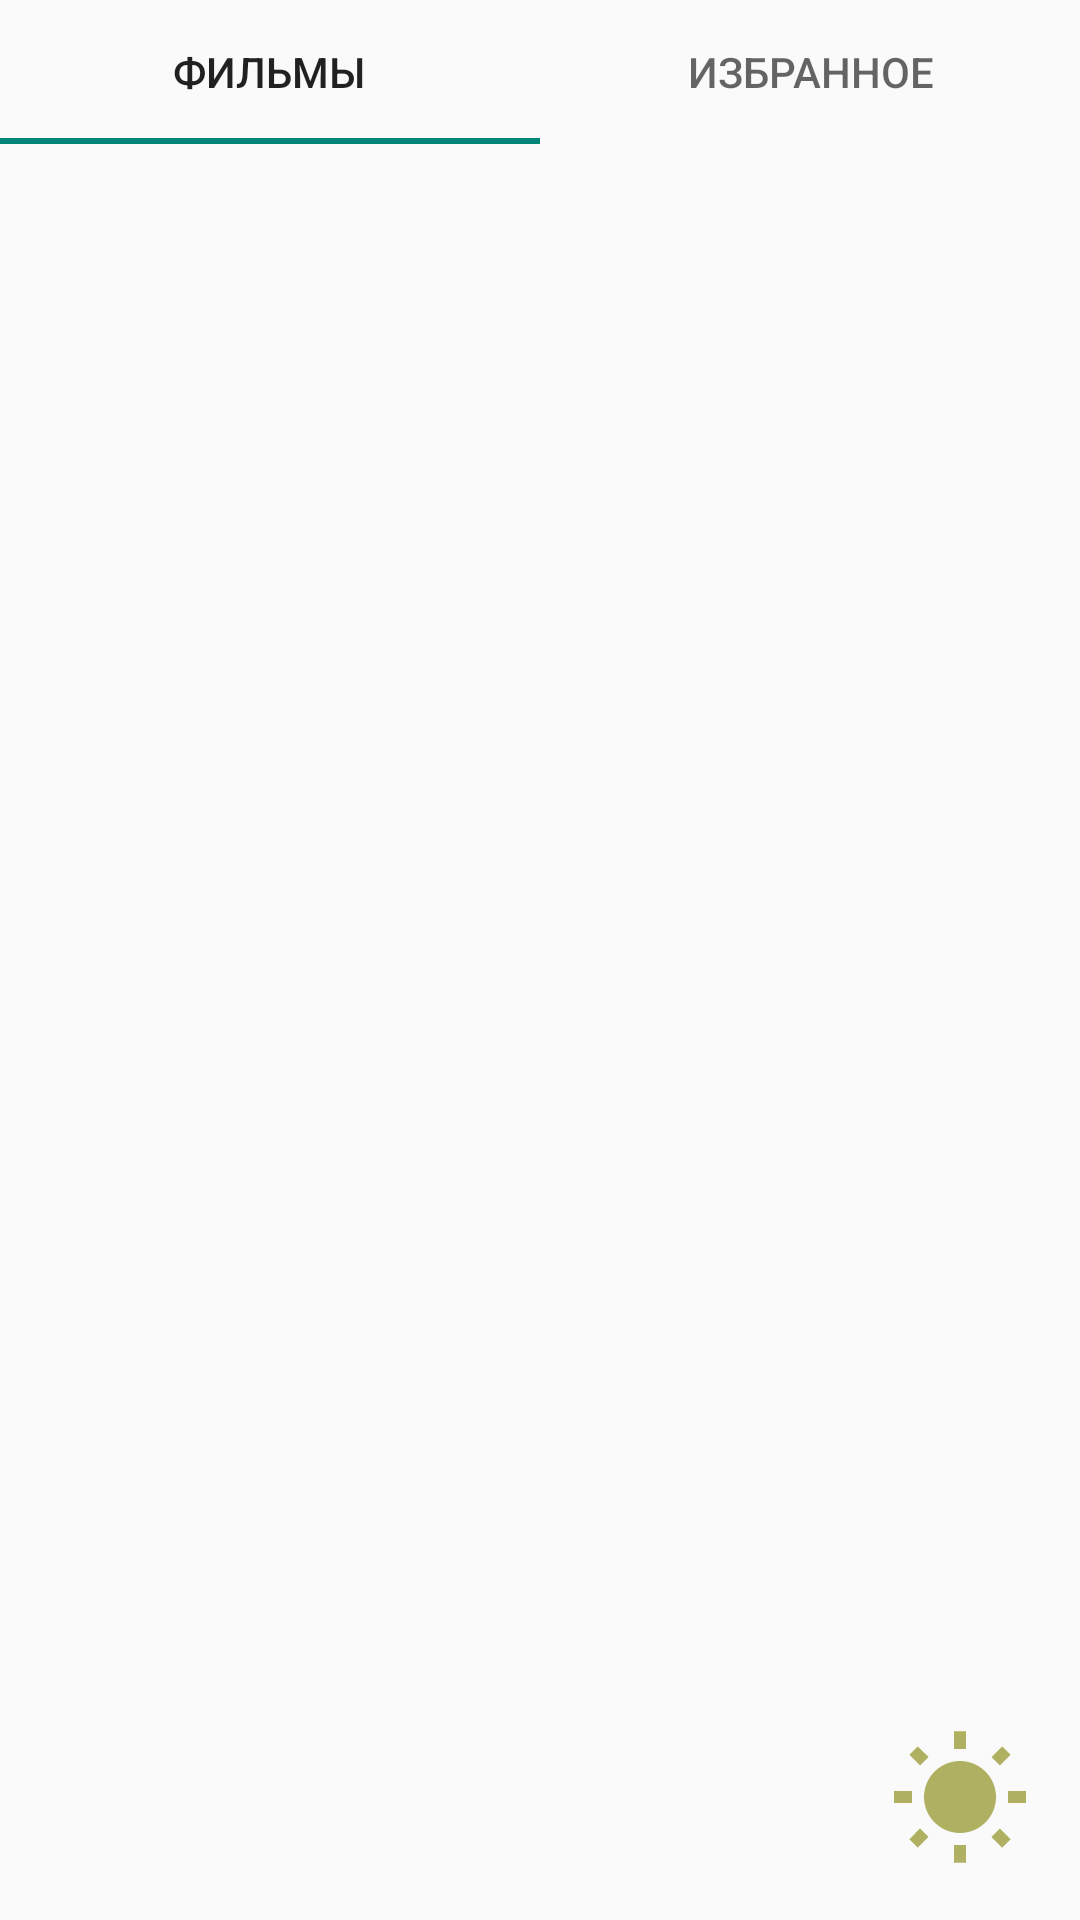

Icon click points for this 1080 × 1920 phone screenshot, format point (x, y):
day night: point (960, 1797)
